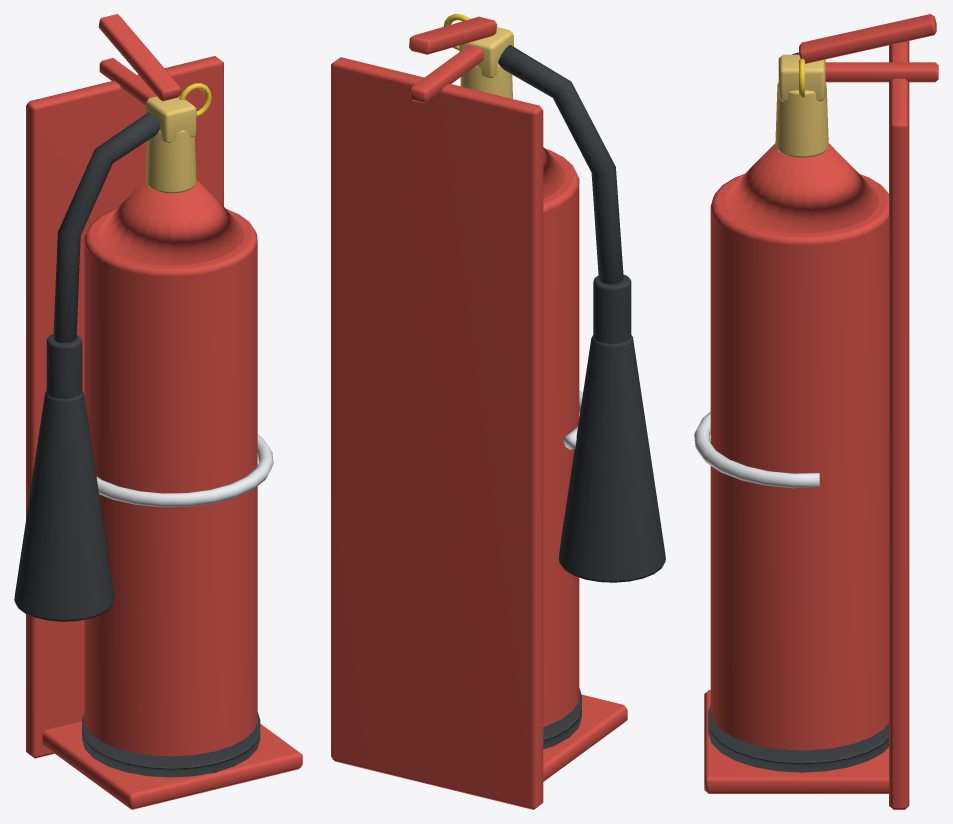
Rendered from co2-extinguisher.glb.
3 views of the same model, side by side, from view 1: azimuth 30°, elevation 25°; view 2: azimuth 150°, elevation 25°; view 3: azimuth 270°, elevation 25° (orthographic). The views are drawn at different scales.
Visible parts, largest first — view 1: CO2ExtinguisherAssembly; view 2: CO2ExtinguisherAssembly; view 3: CO2ExtinguisherAssembly.
Boxes of the visible parts, x1,y1,x2,y2 form: CO2ExtinguisherAssembly: (14,14,302,809); CO2ExtinguisherAssembly: (331,14,665,809); CO2ExtinguisherAssembly: (694,14,938,809).
Bounding box in the file's own units: 0.274 × 0.7359 × 0.2191.
